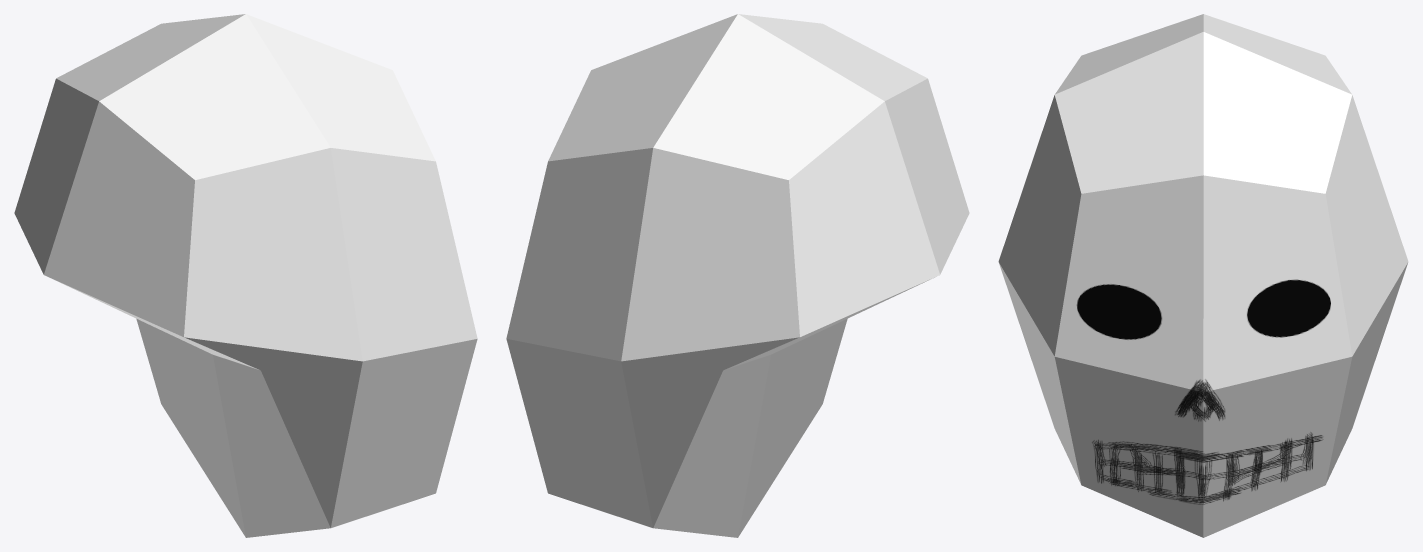
Rendered from mod_dec_skull.fbx.
The picture shows the model from 3 angles, left to right: view 1: azimuth 30°, elevation 25°; view 2: azimuth 150°, elevation 25°; view 3: azimuth 270°, elevation 25°; orthographic projection. The views are drawn at different scales.
Parts seen in each view (by area): view 1: mesh_skull; view 2: mesh_skull; view 3: mesh_skull.
Part boxes in pixels (<box>): mesh_skull: <box>14,14,477,537</box>; mesh_skull: <box>506,14,969,537</box>; mesh_skull: <box>998,14,1408,537</box>.
Size of the model in its own units: 168 by 208 by 168.
